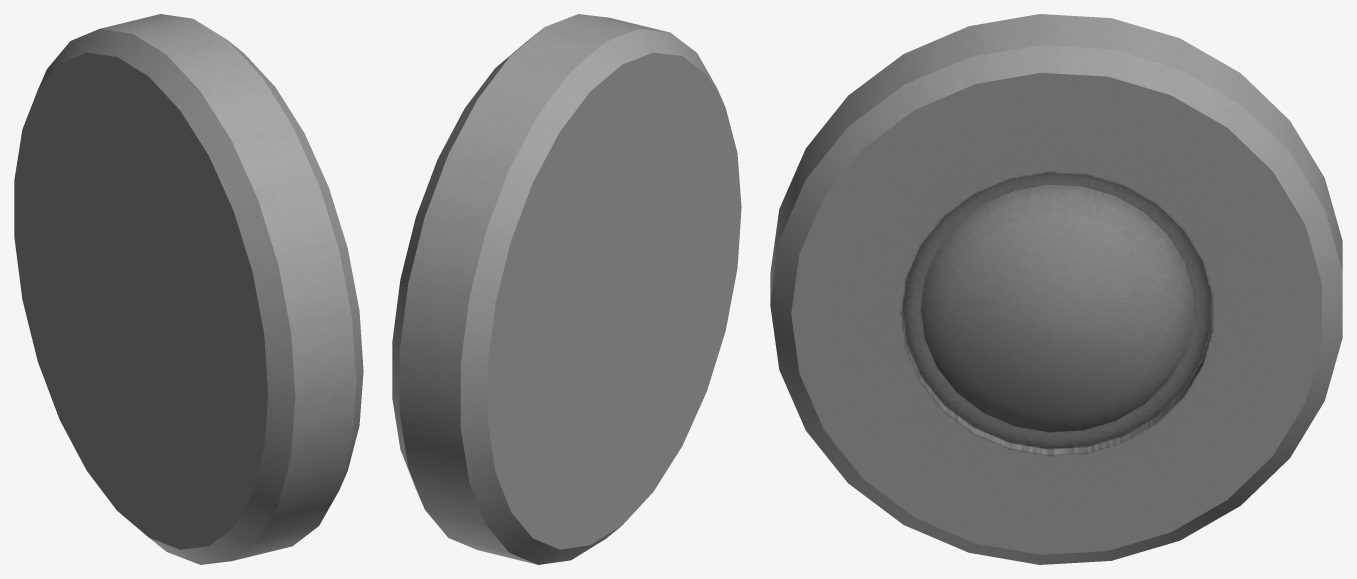
File: JeepTire.obj
The picture shows the model from 3 angles, left to right: view 1: azimuth 30°, elevation 25°; view 2: azimuth 150°, elevation 25°; view 3: azimuth 270°, elevation 25°; orthographic projection. The views are drawn at different scales.
Visible parts, largest first — view 1: Tire_Cylinder.001; view 2: Tire_Cylinder.001; view 3: Tire_Cylinder.001.
Boxes of the visible parts, box(x1,y1,x2,y2) form: Tire_Cylinder.001: box(14, 14, 363, 564); Tire_Cylinder.001: box(392, 14, 741, 564); Tire_Cylinder.001: box(770, 14, 1342, 564).
Size of the model in its own units: 0.1665 by 0.6984 by 0.6971.
